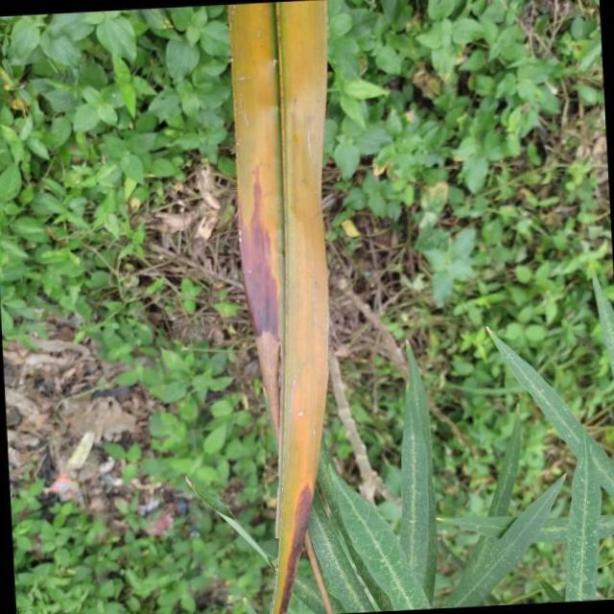Megnesium: (228, 0, 336, 614)
